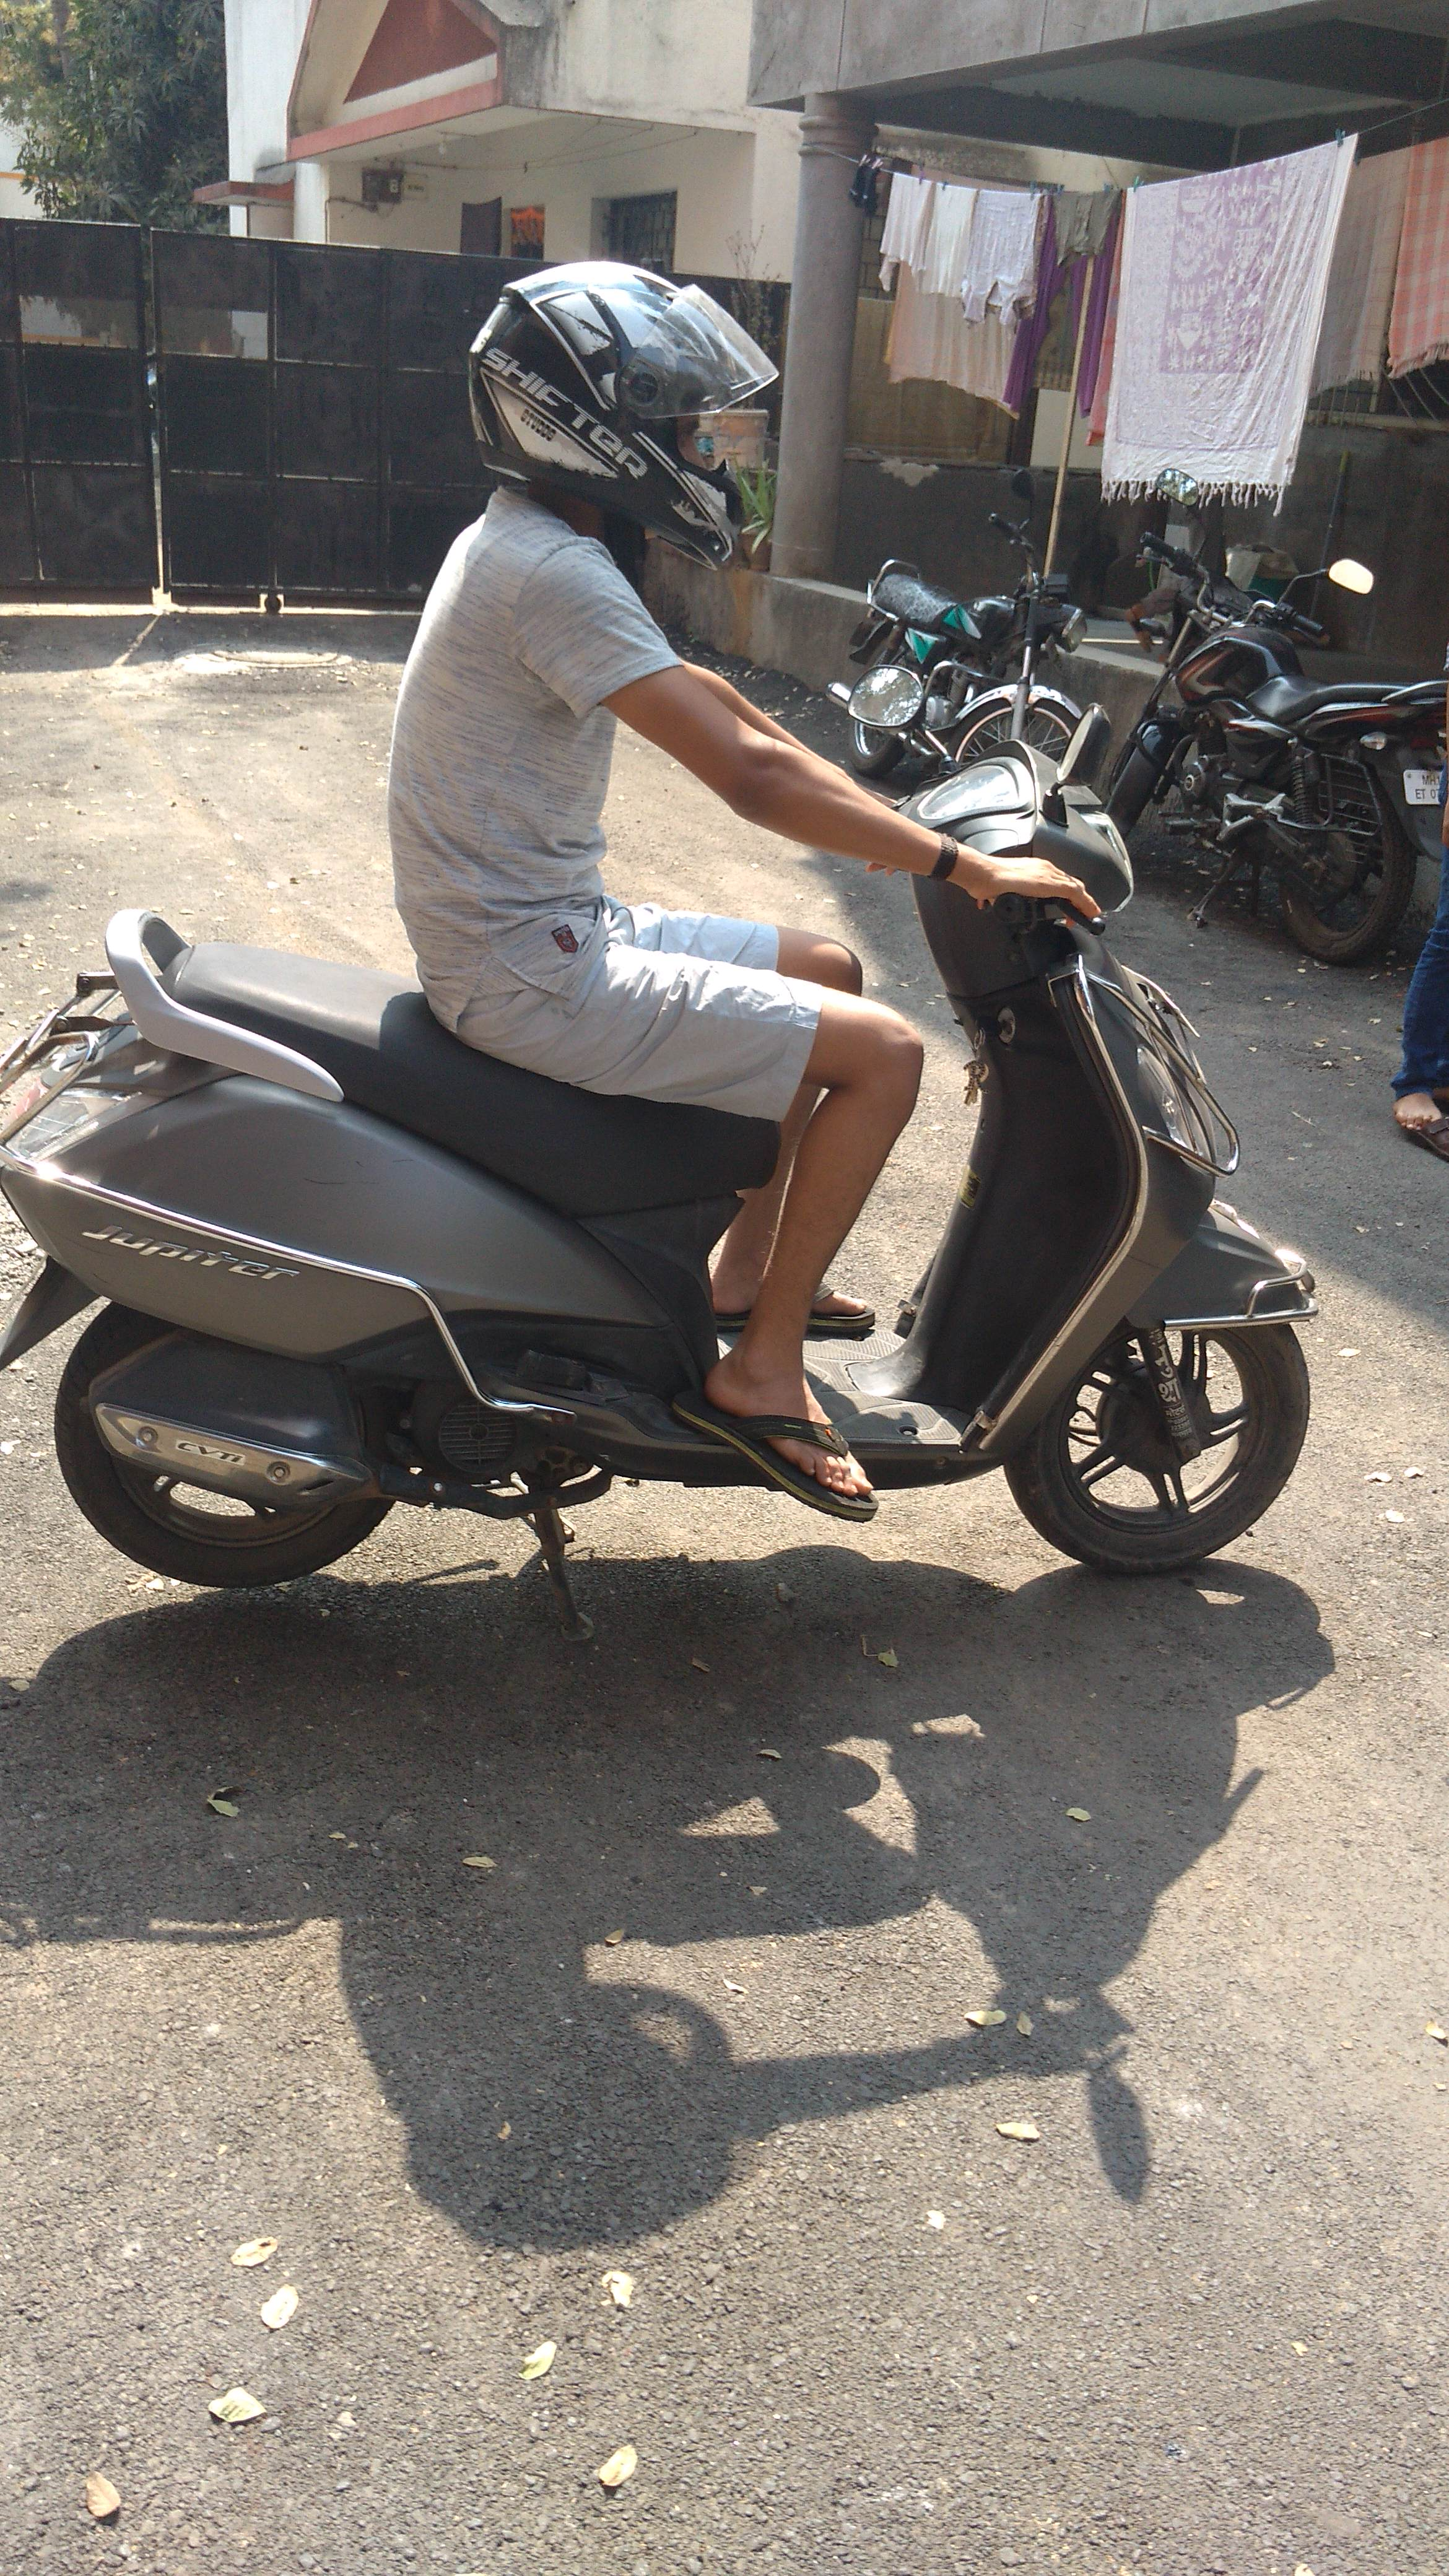helmet: (414, 239, 1076, 1338)
